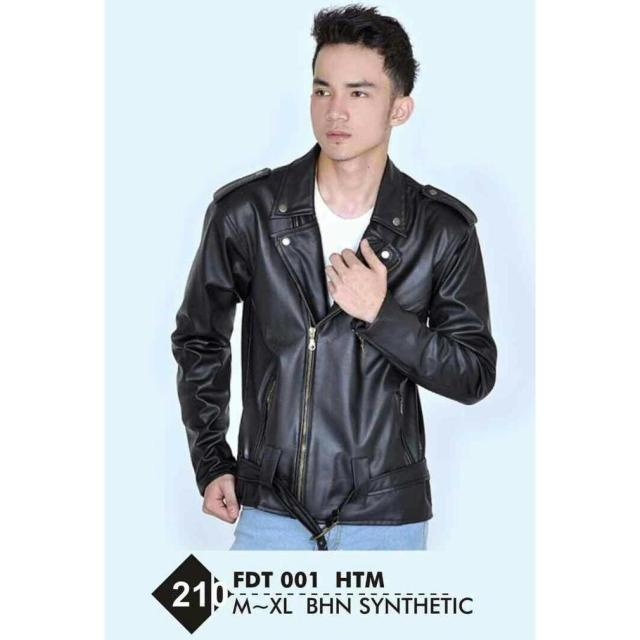jacket: (169, 146, 508, 544)
